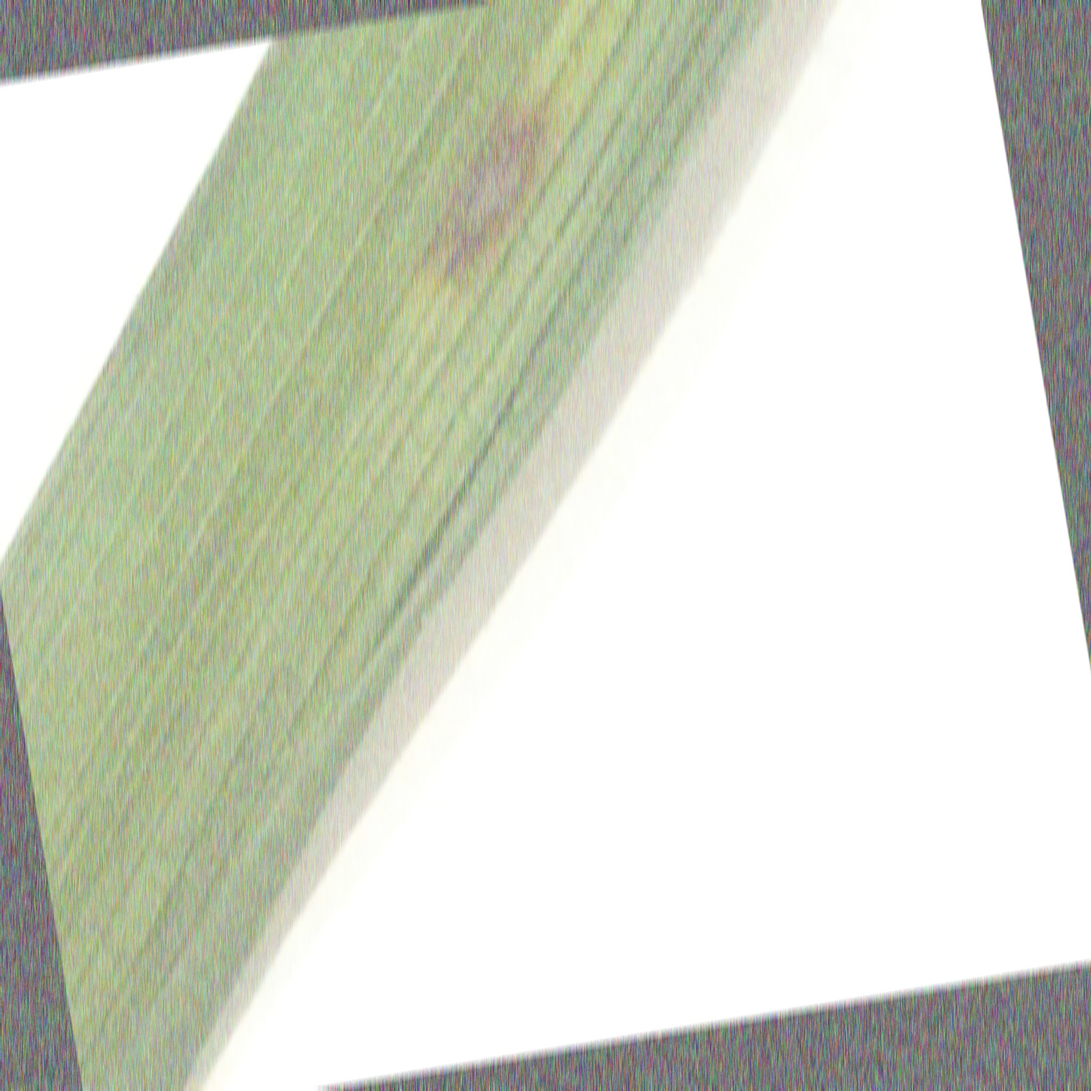Brown_Spot: (407, 56, 567, 300)
